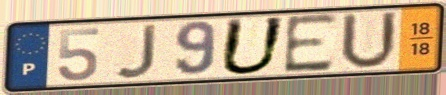5: (56, 25, 101, 82)
9: (173, 18, 218, 79)
E: (281, 11, 340, 76)
J: (112, 22, 160, 81)
U: (216, 15, 289, 78), (337, 10, 400, 73)
